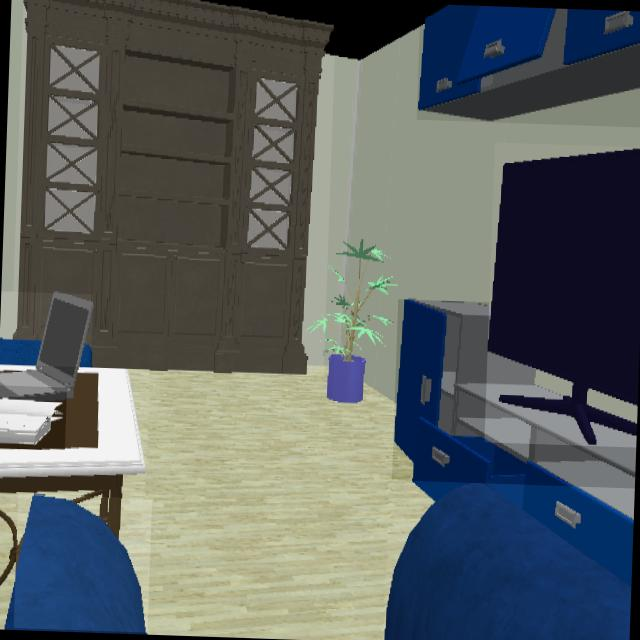book: (0, 386, 66, 449)
bookshelf: (15, 0, 335, 375)
cabinet: (393, 299, 637, 588), (417, 4, 640, 122)
laptop: (0, 294, 92, 410)
monitor: (487, 148, 640, 445)
sofa: (383, 483, 631, 640), (14, 495, 146, 633)
table: (0, 367, 146, 538)
